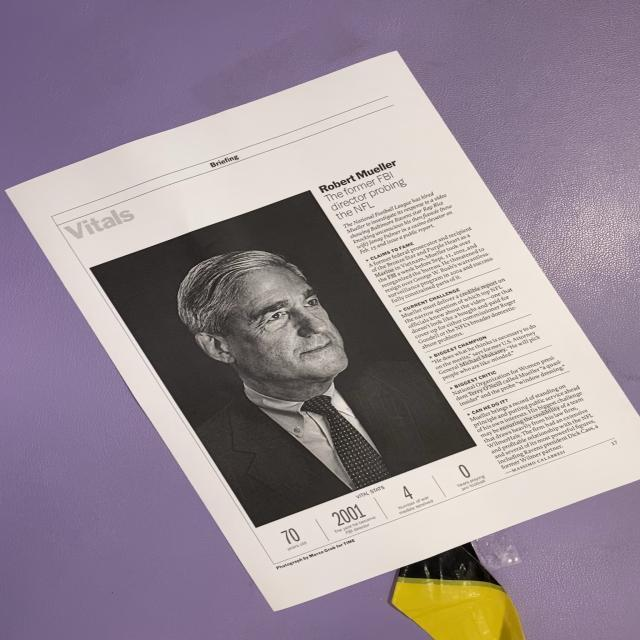document: (7, 52, 638, 610)
